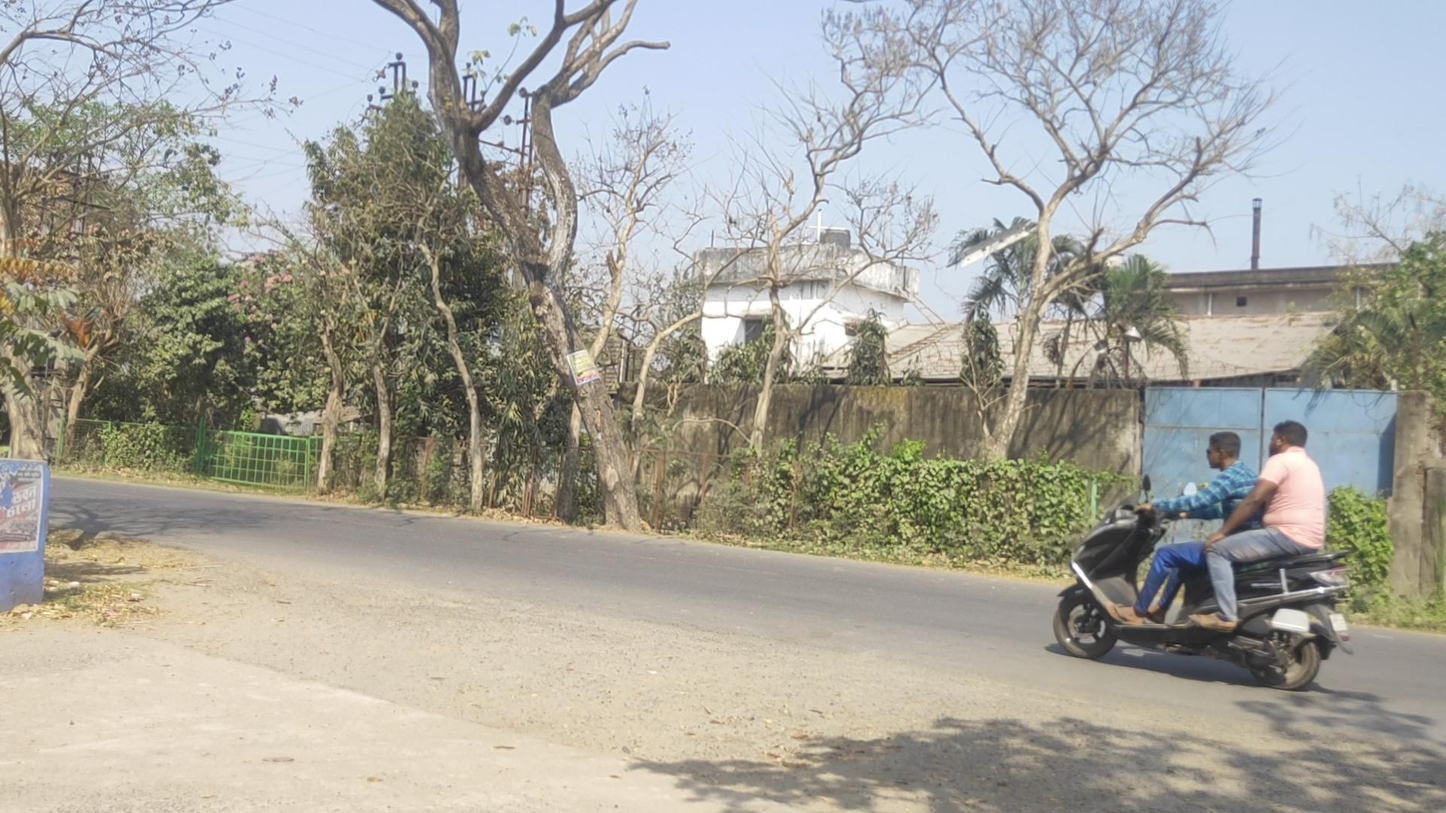bike: (1054, 420, 1353, 691)
